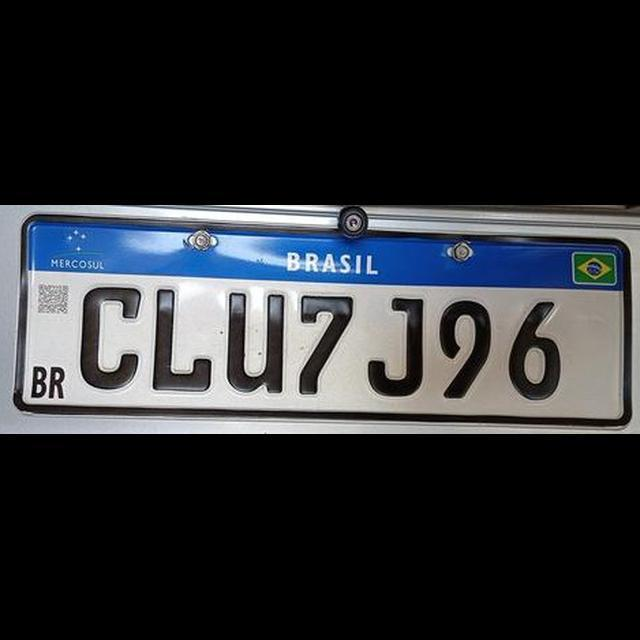Caractere: (223, 282, 289, 400), (77, 280, 143, 392), (151, 282, 213, 393), (298, 288, 357, 396), (506, 296, 566, 400), (366, 294, 424, 400), (438, 296, 490, 400)
Placa: (17, 212, 633, 426)
